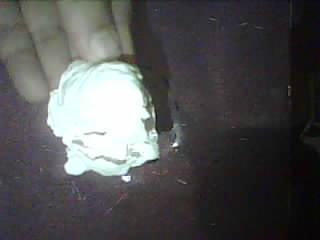paper: (48, 62, 159, 176)
